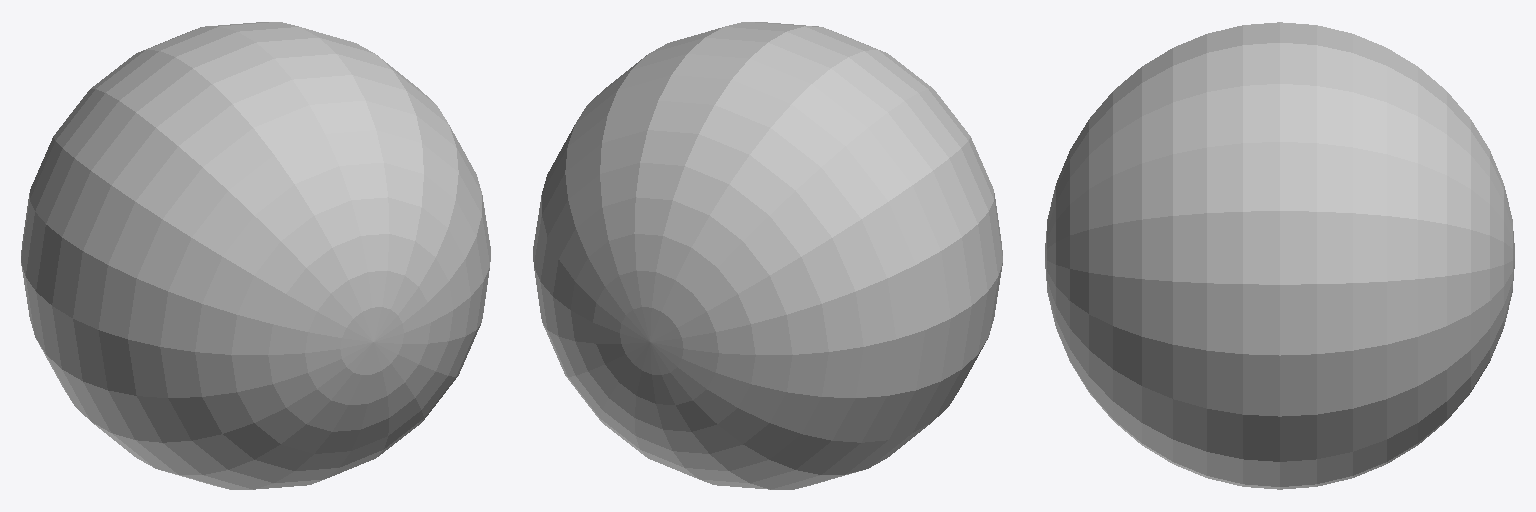
The model's file is Pluto.obj.
The picture shows the model from 3 angles: view 1: azimuth 30°, elevation 25°; view 2: azimuth 150°, elevation 25°; view 3: azimuth 270°, elevation 25°; orthographic projection.
Visible parts, largest first — view 1: Pluto; view 2: Pluto; view 3: Pluto.
Part boxes in pixels (bbox=[...]): Pluto: bbox=[21, 22, 490, 489]; Pluto: bbox=[533, 22, 1002, 489]; Pluto: bbox=[1045, 22, 1514, 489].
Bounding box in the file's own units: 2 × 2 × 2.